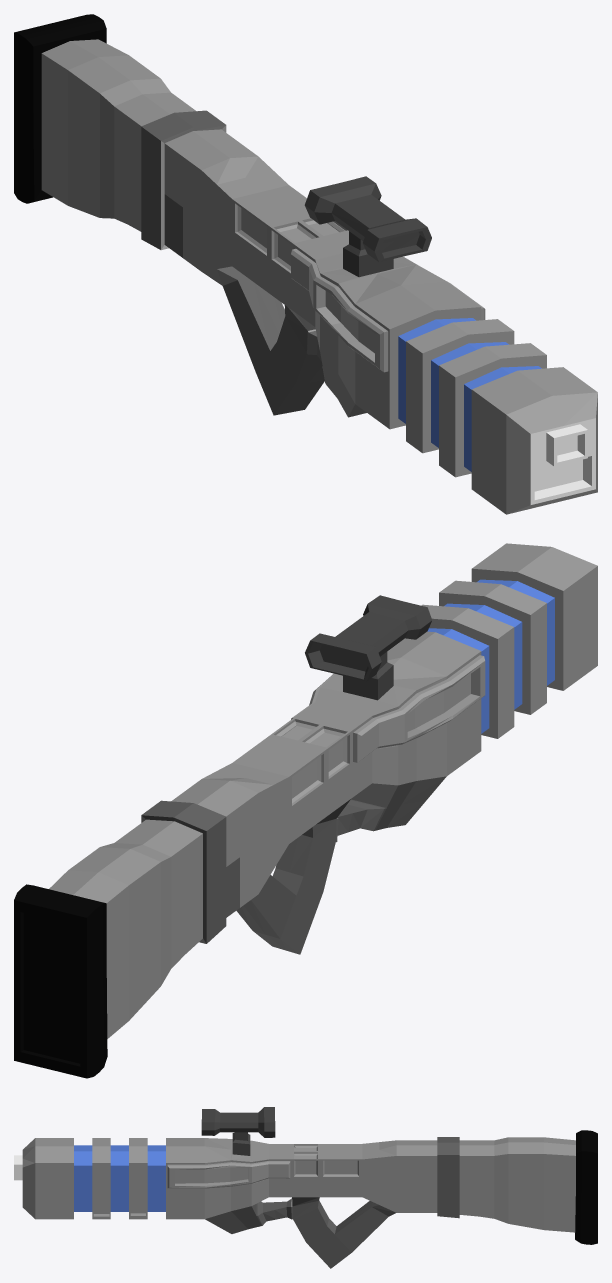
Rendered from gun.fbx.
3 renders of one model, top to bottom at view 1: azimuth 30°, elevation 25°; view 2: azimuth 150°, elevation 25°; view 3: azimuth 270°, elevation 25°, orthographic. The views are drawn at different scales.
Visible parts, largest first — view 1: pCube1; view 2: pCube1; view 3: pCube1.
Part boxes in pixels (x1,y1,x2,y2): pCube1: (14,14,597,514); pCube1: (14,543,597,1078); pCube1: (14,1107,597,1268).
Size of the model in its own units: 0.983 by 2.38 by 8.41.
